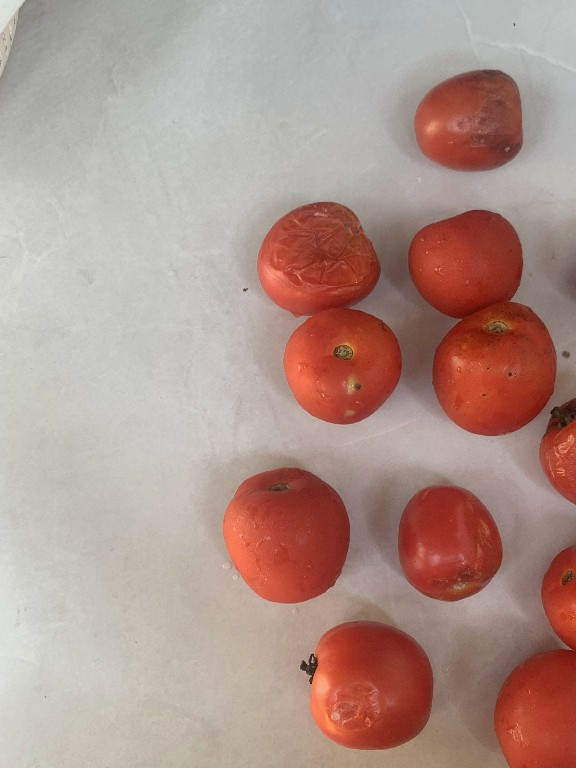NG: (300, 610, 438, 759), (277, 306, 418, 434), (436, 300, 559, 438), (394, 474, 510, 606), (253, 196, 381, 314), (409, 66, 527, 173)
OK: (218, 457, 361, 607), (406, 207, 530, 317), (495, 636, 576, 768)
